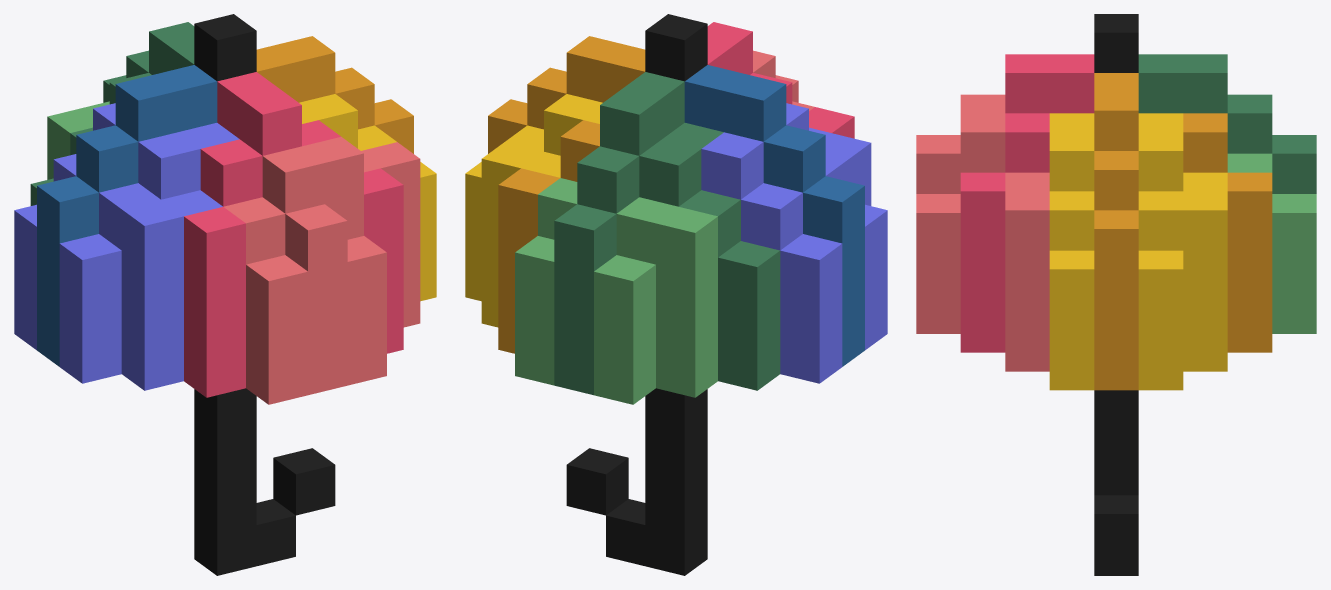
The model's file is umbrella.vox.obj.
The picture shows the model from 3 angles, left to right: view 1: azimuth 30°, elevation 25°; view 2: azimuth 150°, elevation 25°; view 3: azimuth 270°, elevation 25°; orthographic projection. The views are drawn at different scales.
Bounding box in the file's own units: 0.9 × 1.3 × 0.9.
1 material, 1 textured.
